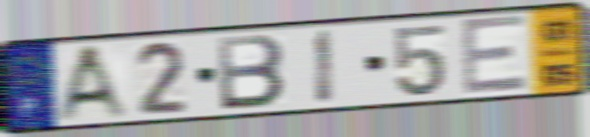2: (133, 40, 190, 117)
5: (390, 21, 449, 98)
A: (52, 41, 135, 122)
B: (214, 32, 288, 114)
E: (457, 12, 531, 99)
I: (313, 27, 337, 107)
